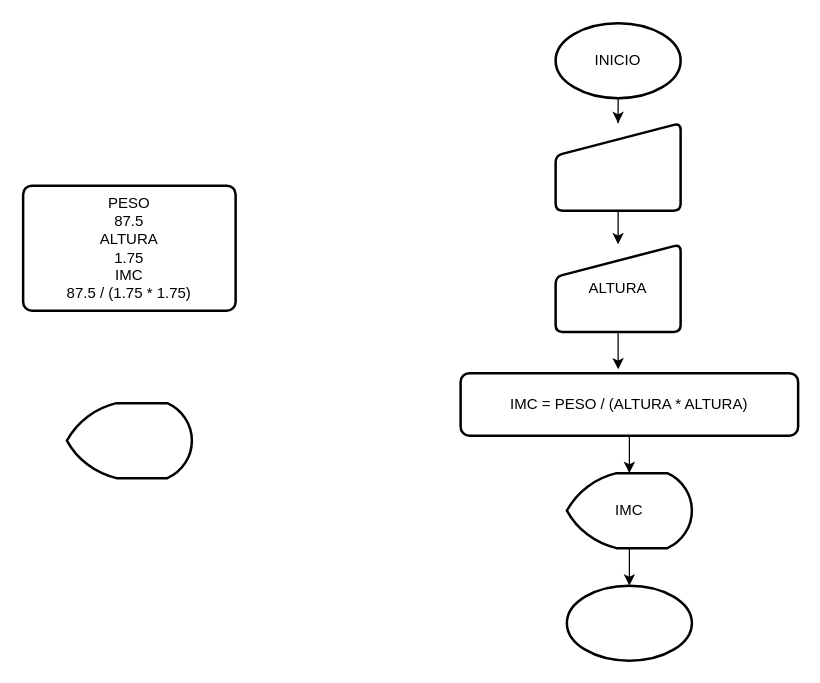
Some shapes in this 820 by 683 pixel diagram are drawn without their labels. The centre of each missing label's shape, as x and y in pixels:
"FIM" goes at pixel 628 622.
"IMC 28.57" goes at pixel 128 440.
"PESO" goes at pixel 617 166.
